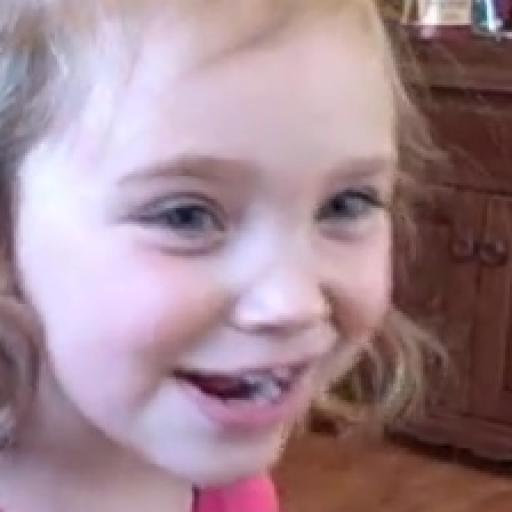Autism: (0, 0, 417, 508)
